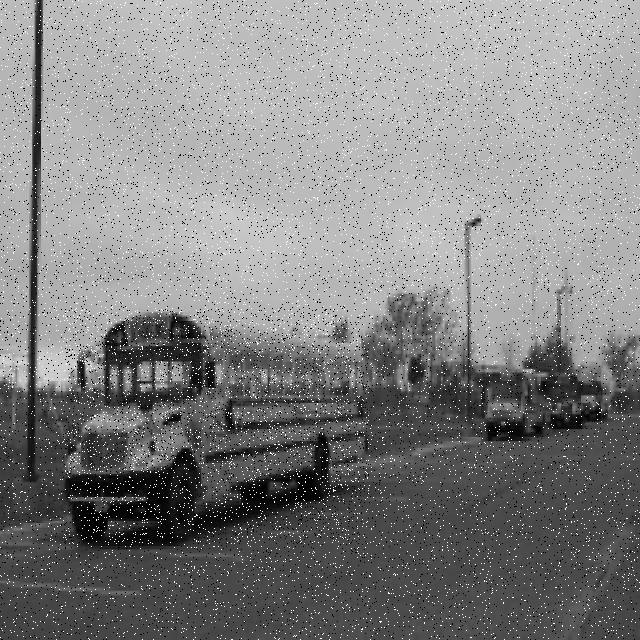Bus: (65, 309, 369, 544)
